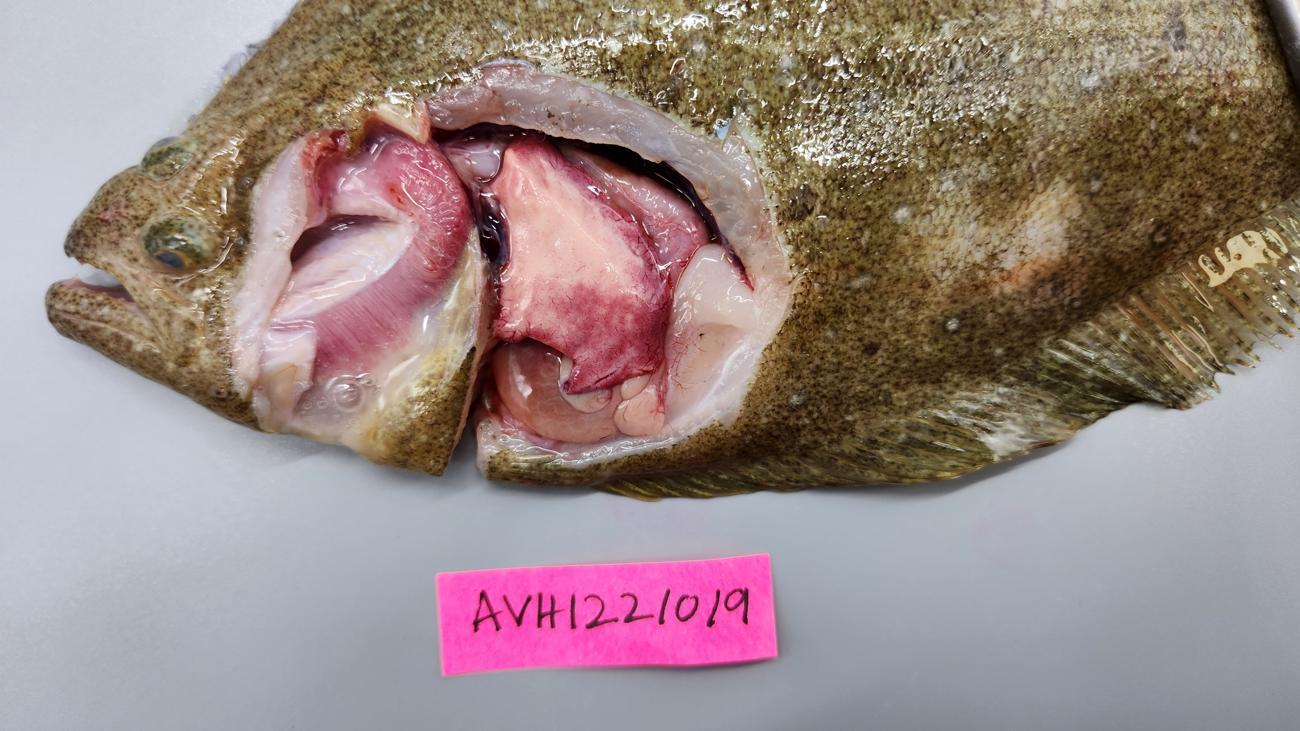VIGIP: (310, 129, 471, 380)
VILIC: (520, 144, 664, 386)
